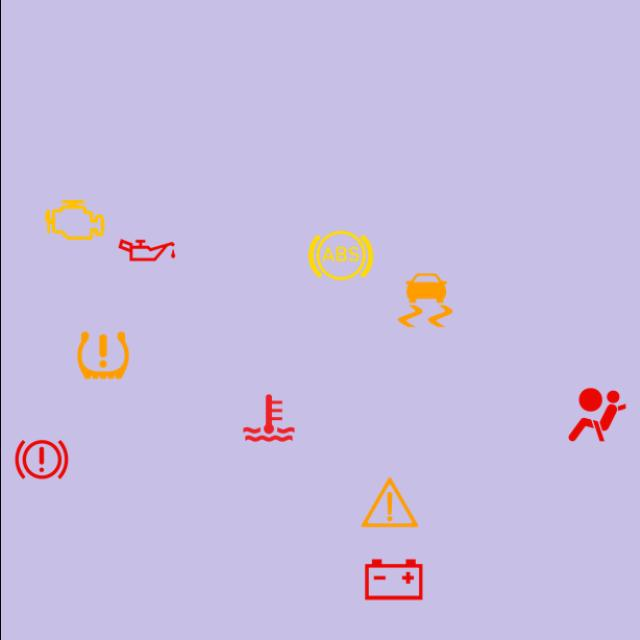Anti Lock Braking System: (304, 220, 376, 291)
Braking System Issue: (5, 424, 76, 495)
Charging System Issue: (358, 544, 428, 615)
Check Engine: (39, 184, 110, 256)
Electronic Stability Problem -ESP-: (388, 264, 459, 336)
Engine Overheating Warning Light: (232, 382, 304, 453)
Low Engine Oil Warning Light: (110, 214, 182, 286)
Low Tire Pressure Warning Light: (66, 320, 138, 391)
Master warning light: (354, 467, 424, 538)
SRS-Airbag: (560, 380, 632, 450)
